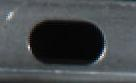holes: (28, 19, 106, 64)
